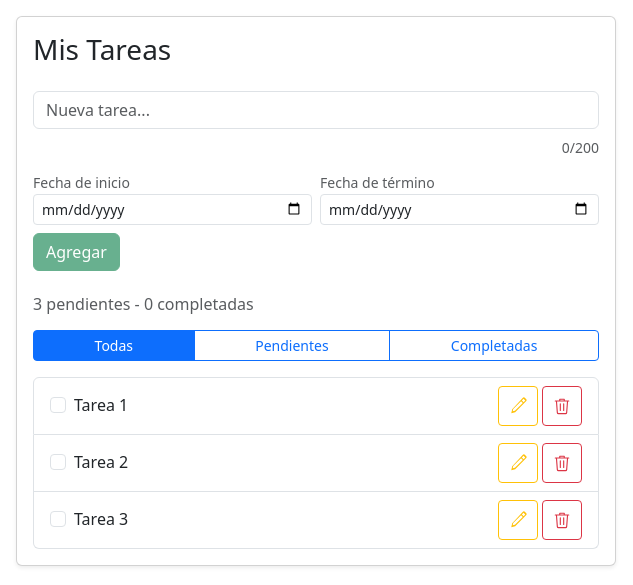
Test: below the cap the form works and shows no warning
Expected: the text "Tarea 3" is shown, [74,508,128,530]
Type "Una más" into the field with placeholder "Nueva tarea..." at [316, 110], box [33,91,599,129]
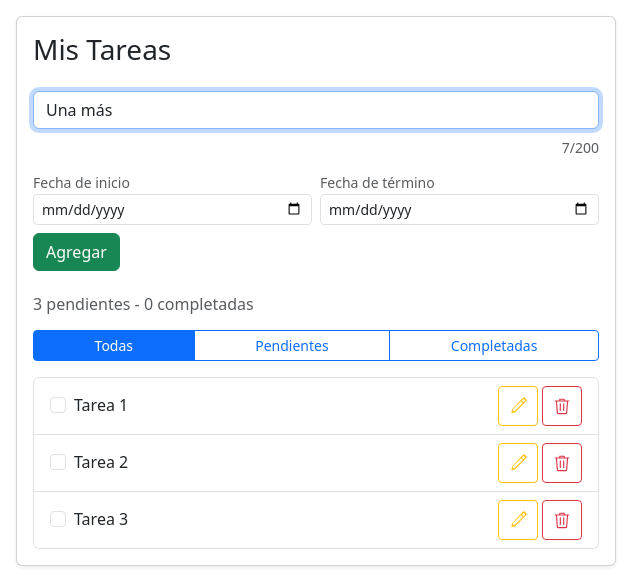
Now the button "Agregar" is enabled, box [33,233,120,271]
